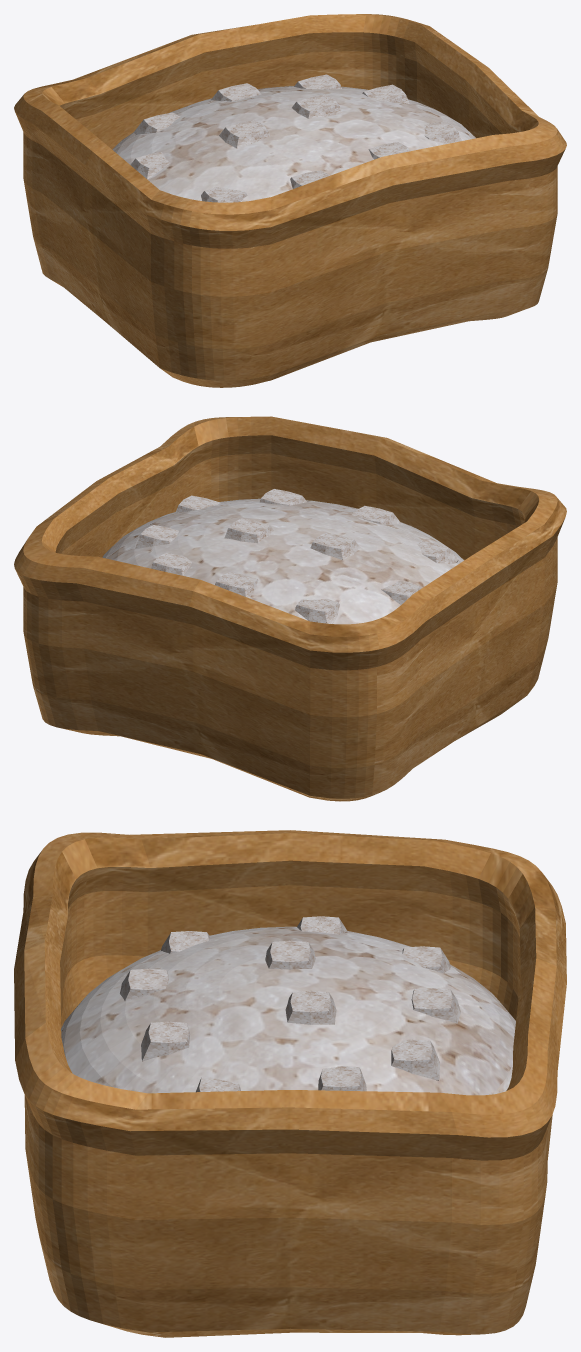
Rendered from salt.obj.
The picture shows the model from 3 angles, top to bottom: view 1: azimuth 30°, elevation 25°; view 2: azimuth 150°, elevation 25°; view 3: azimuth 270°, elevation 25°; orthographic projection. The views are drawn at different scales.
Visible parts, largest first — view 1: paper, salt, crystal_5, crystal_6, crystal_4, crystal_3, crystal_9, crystal_8, crystal_0, crystal_7, crystal_10; view 2: paper, salt, crystal_5, crystal_8, crystal_6, crystal_9, crystal_7, crystal_10, crystal_0, crystal_1, crystal_2, crystal_4; view 3: paper, salt, crystal_6, crystal_10, crystal_2, crystal_9, crystal_5, crystal_1, crystal_7, crystal_8, crystal_0, crystal_4.
Boxes of the visible parts, x1=… form: paper: x1=14, y1=14, x2=566, y2=387; salt: x1=112, y1=86, x2=475, y2=201; crystal_5: x1=219, y1=120, x2=269, y2=148; crystal_6: x1=292, y1=94, x2=341, y2=118; crystal_4: x1=130, y1=151, x2=170, y2=179; crystal_3: x1=424, y1=121, x2=461, y2=143; crystal_9: x1=211, y1=83, x2=261, y2=101; crystal_8: x1=133, y1=112, x2=180, y2=134; crystal_0: x1=201, y1=187, x2=247, y2=202; crystal_7: x1=362, y1=84, x2=409, y2=103; crystal_10: x1=294, y1=74, x2=341, y2=89; paper: x1=14, y1=416, x2=566, y2=801; salt: x1=102, y1=498, x2=463, y2=624; crystal_5: x1=310, y1=532, x2=360, y2=560; crystal_8: x1=295, y1=599, x2=339, y2=623; crystal_6: x1=224, y1=518, x2=273, y2=543; crystal_9: x1=215, y1=572, x2=258, y2=597; crystal_7: x1=135, y1=525, x2=178, y2=548; crystal_10: x1=150, y1=552, x2=191, y2=575; crystal_0: x1=416, y1=540, x2=458, y2=563; crystal_1: x1=352, y1=505, x2=401, y2=524; crystal_2: x1=259, y1=489, x2=306, y2=505; crystal_4: x1=381, y1=580, x2=421, y2=604; paper: x1=14, y1=830, x2=566, y2=1337; salt: x1=61, y1=926, x2=515, y2=1095; crystal_6: x1=285, y1=990, x2=336, y2=1024; crystal_10: x1=391, y1=1039, x2=439, y2=1080; crystal_2: x1=141, y1=1021, x2=190, y2=1061; crystal_9: x1=411, y1=988, x2=460, y2=1023; crystal_5: x1=265, y1=940, x2=315, y2=969; crystal_1: x1=120, y1=968, x2=168, y2=1001; crystal_7: x1=318, y1=1066, x2=366, y2=1091; crystal_8: x1=402, y1=946, x2=450, y2=973; crystal_0: x1=161, y1=931, x2=209, y2=953; crystal_4: x1=297, y1=916, x2=347, y2=934.
Bounding box in the file's own units: 116 × 58.82 × 100.
2 materials, 2 textured.
